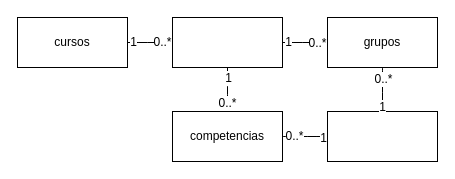
This 455x179 diagram has some shape labels left out. Each missing label, with the centre of its shape:
"disciplinas" goes at [227,42].
"pessoas" goes at [382,136].
